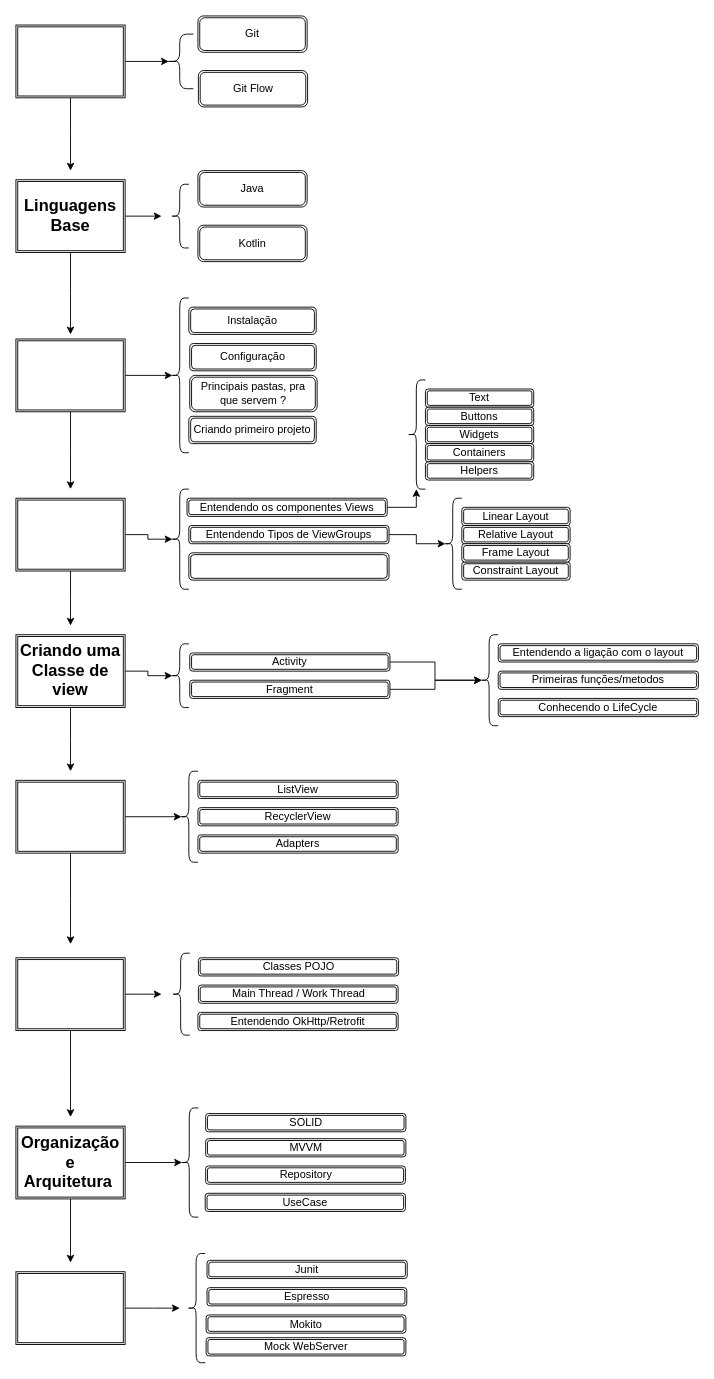
Some shapes in this 714 by 1379 pixel diagram are drawn without their labels. Here are the shapes that lost their labels. From the top down, the centre of each, then its label:
At point (70, 61): "Git / Git Flow".
At point (70, 375): "Android Studio".
At point (70, 534): "Layout XML".
At point (288, 566): "Entendendo a renderização da IU".
At point (70, 816): "Trabalhando com Listas".
At point (70, 994): "Comunicação com apis".
At point (70, 1308): "Testes".
